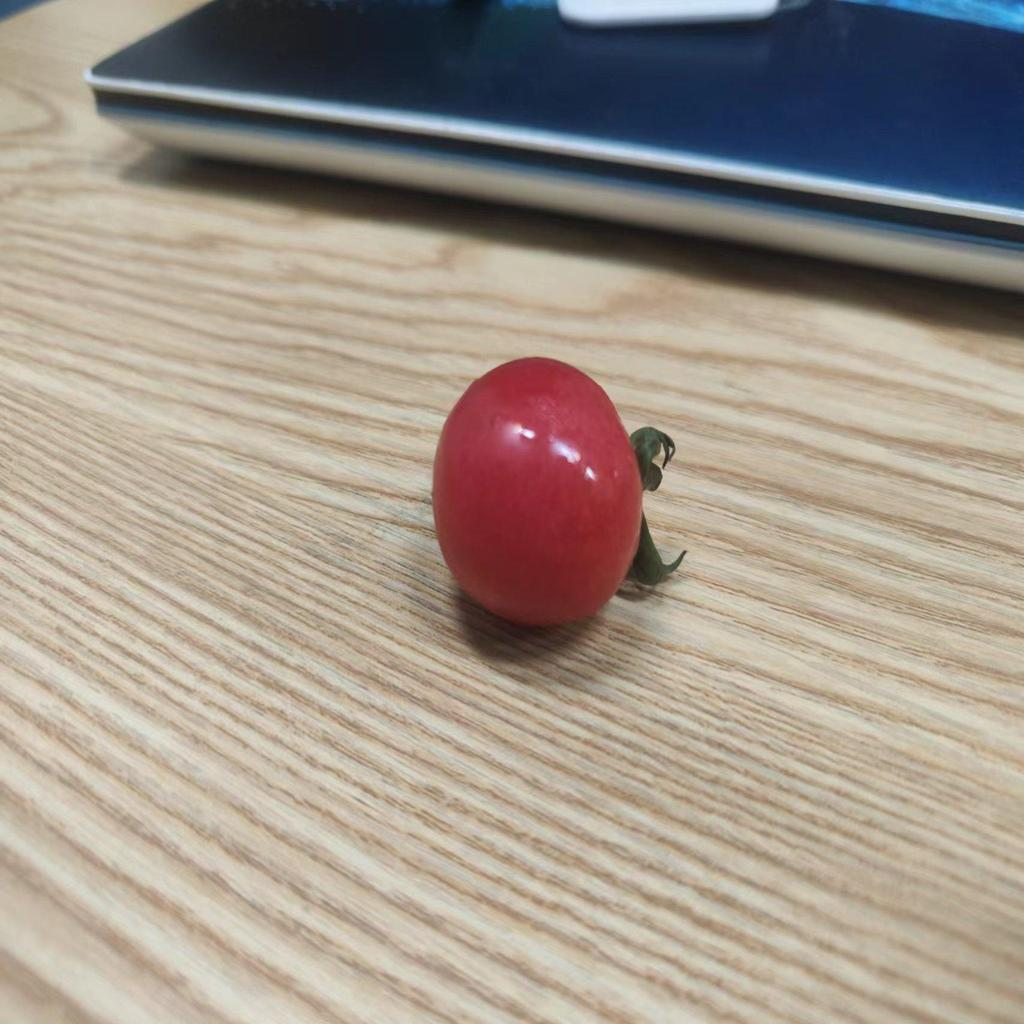tomato: (437, 350, 653, 643)
